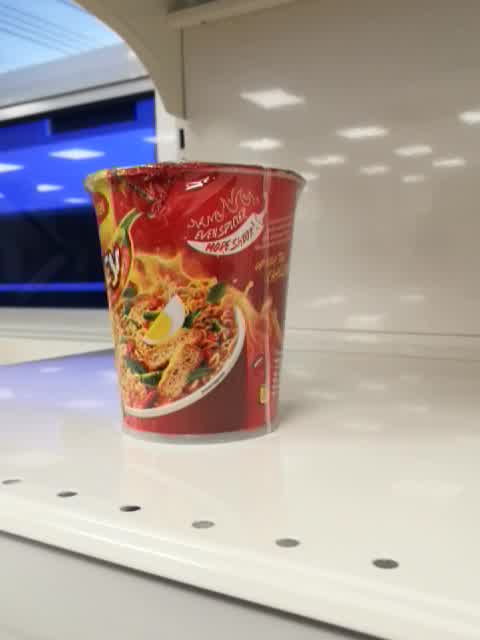maggi: (84, 162, 305, 445)
